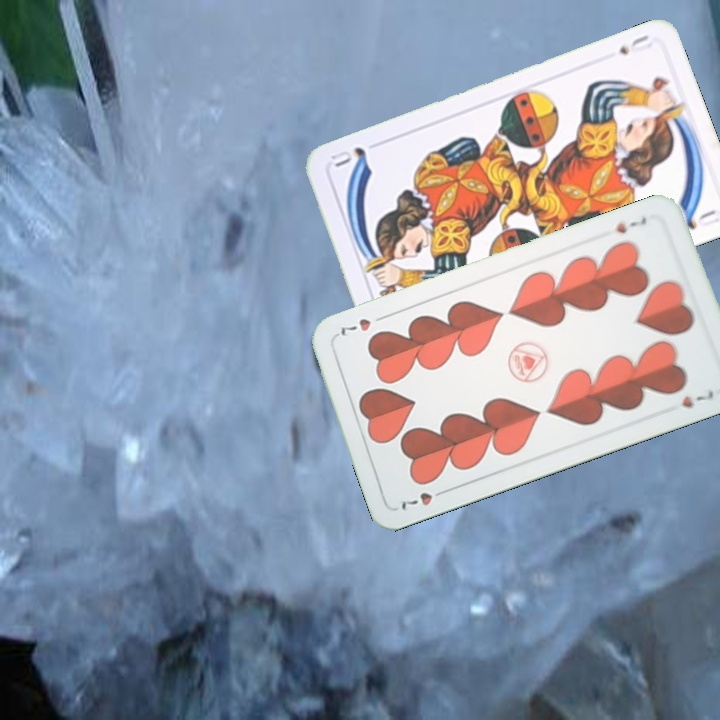H7: (397, 484, 451, 513), (612, 213, 649, 236)
SU: (614, 30, 655, 58)
